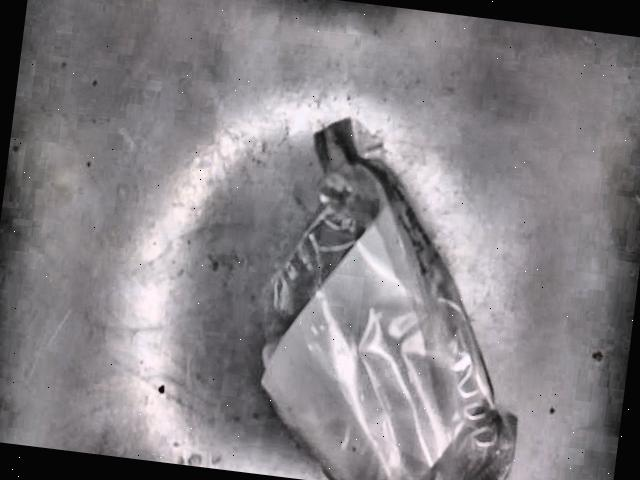Plastic: (253, 114, 525, 480)
